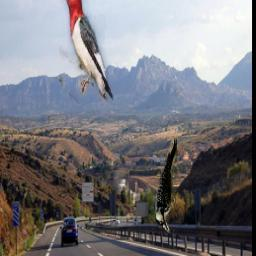Woodpecker: (58, 0, 113, 105), (153, 130, 183, 233)
